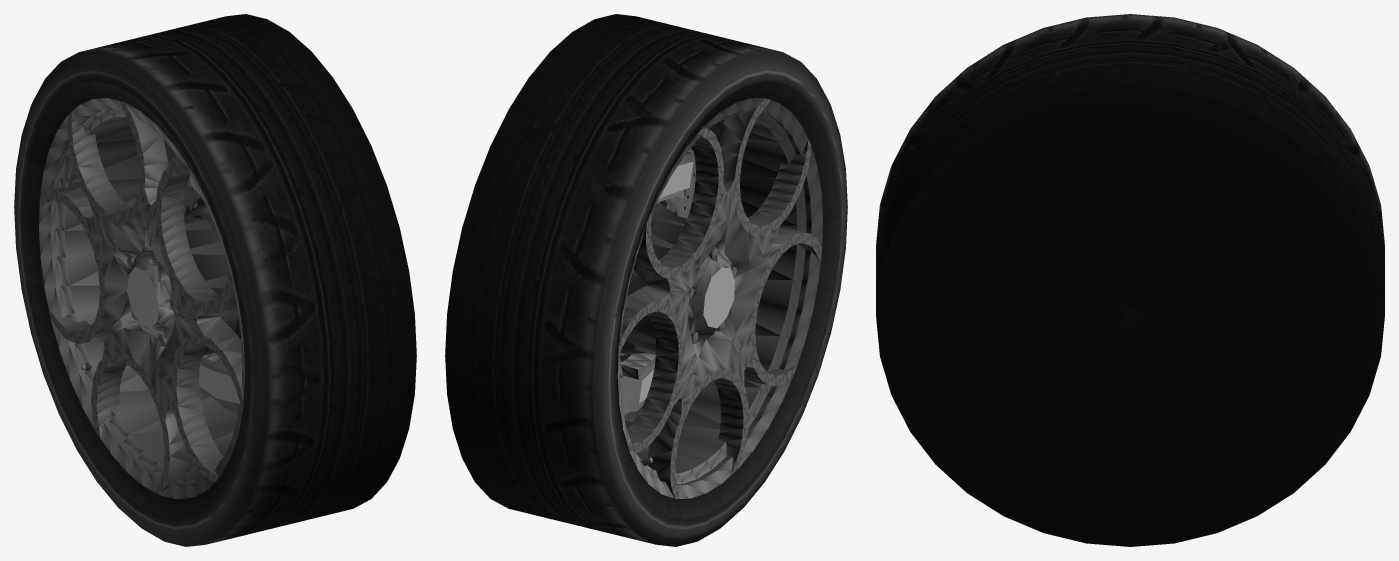
The model's file is alfa8c.fbx.
3 views of the same model, side by side, from view 1: azimuth 30°, elevation 25°; view 2: azimuth 150°, elevation 25°; view 3: azimuth 270°, elevation 25° (orthographic).
Parts seen in each view (by area): view 1: Tirefr_garage, Tirefl_garage, Rimfl_garage_vcolor, Rimfl_garage_lable, support_fl_lable, brake_disk_fl_garage, support_fl_vcolor; view 2: Tirefl_garage, Tirefr_garage, Rimfl_garage_vcolor, support_fl_vcolor, Rimfl_garage_lable, brake_disk_fl_garage, Rimfr_garage_vcolor, support_fr_lable; view 3: Tirefr_garage, Tirefl_garage, Tire_LP_fl_garage, Tire_LP_fr_garage.
Part boxes in pixels (box(x1,y1,x2,y2)): Tirefr_garage: box(14, 14, 416, 545); Tirefl_garage: box(14, 15, 416, 546); Rimfl_garage_vcolor: box(39, 97, 245, 498); Rimfl_garage_lable: box(127, 266, 158, 328); support_fl_lable: box(199, 364, 239, 403); brake_disk_fl_garage: box(168, 154, 240, 339); support_fl_vcolor: box(199, 353, 239, 414); Tirefl_garage: box(445, 19, 847, 543); Tirefr_garage: box(445, 14, 847, 546); Rimfl_garage_vcolor: box(616, 97, 822, 498); support_fl_vcolor: box(619, 353, 655, 415); Rimfl_garage_lable: box(703, 267, 734, 328); brake_disk_fl_garage: box(620, 170, 695, 362); Rimfr_garage_vcolor: box(628, 315, 656, 354); support_fr_lable: box(659, 162, 692, 198); Tirefr_garage: box(876, 14, 1384, 546); Tirefl_garage: box(876, 14, 1384, 546); Tire_LP_fl_garage: box(922, 131, 1337, 506); Tire_LP_fr_garage: box(923, 129, 1338, 506).
Bounding box in the file's own units: 0.8867 × 2.48 × 2.48.
